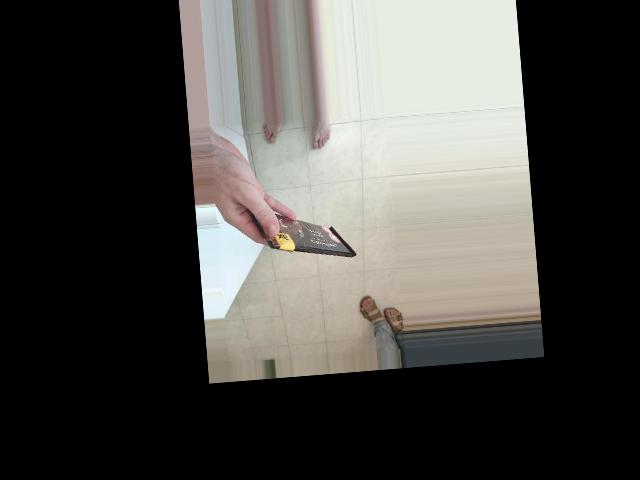chocolate: (308, 203, 377, 317)
